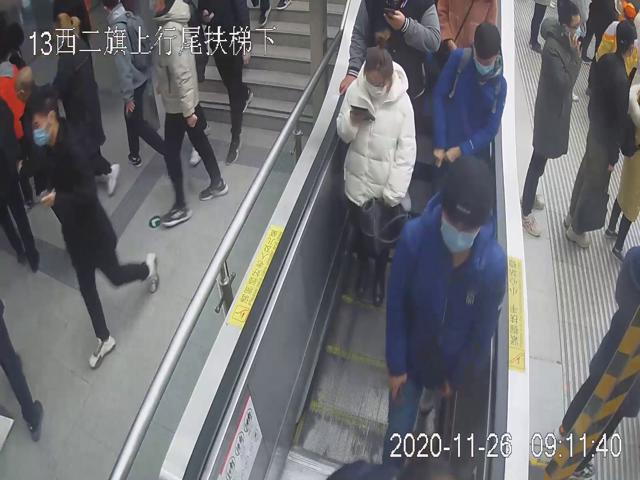person: (23, 79, 159, 371), (385, 154, 506, 469), (335, 38, 417, 307), (520, 0, 583, 244), (432, 20, 508, 193)
